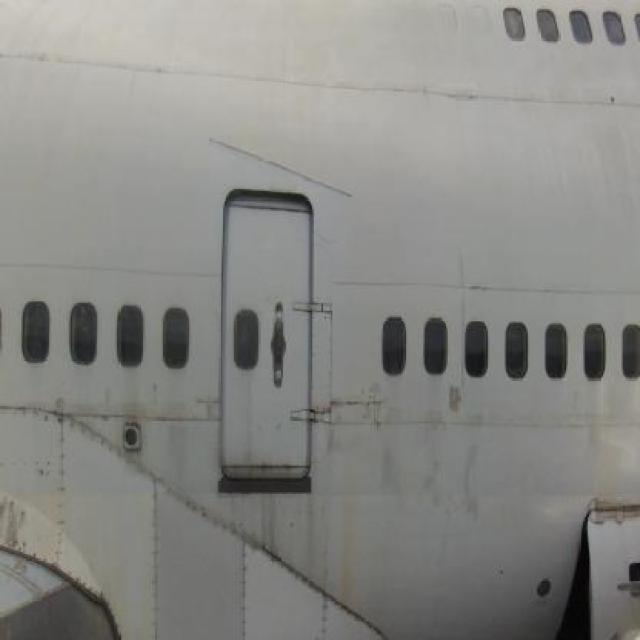Rust: (330, 475, 355, 616)
Scartch: (0, 472, 40, 548), (446, 375, 471, 443)
